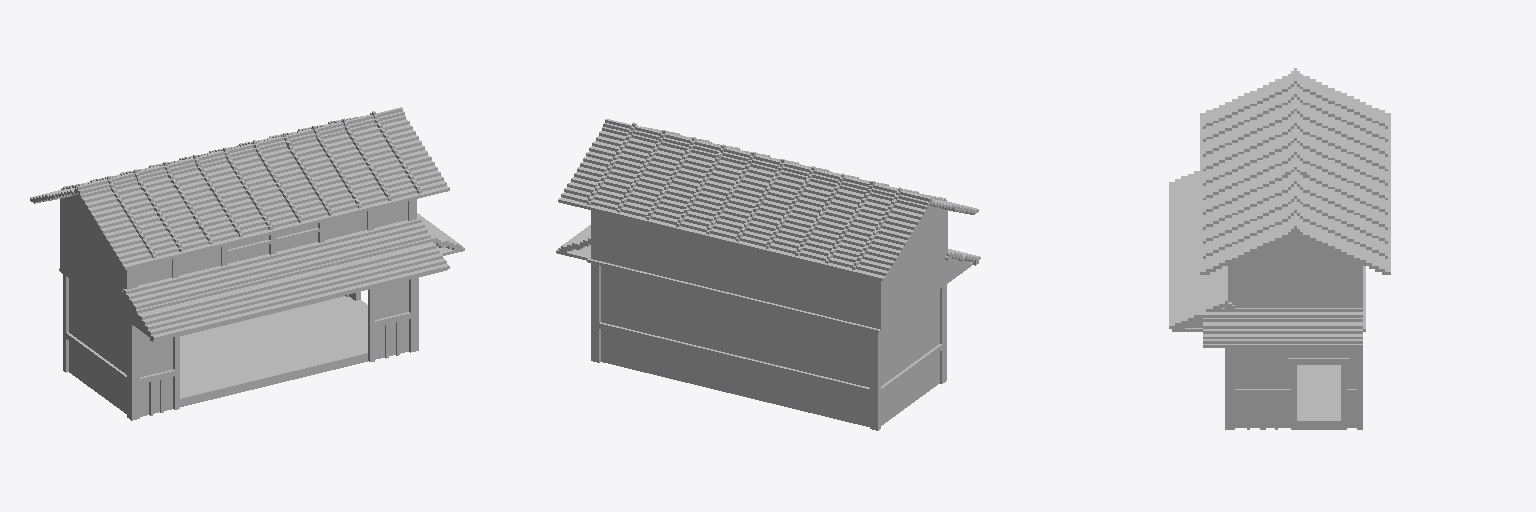
Rendered from hiraya-5.obj.
3 renders of one model, left to right at view 1: azimuth 30°, elevation 25°; view 2: azimuth 150°, elevation 25°; view 3: azimuth 270°, elevation 25°, orthographic.
Visible parts, largest first — view 1: hiraya-5; view 2: hiraya-5; view 3: hiraya-5.
Boxes of the visible parts, box(x1,y1,x2,y2) form: hiraya-5: box(30, 107, 464, 420); hiraya-5: box(556, 119, 980, 430); hiraya-5: box(1169, 68, 1390, 429).
Bounding box in the file's own units: 126 × 76 × 71.